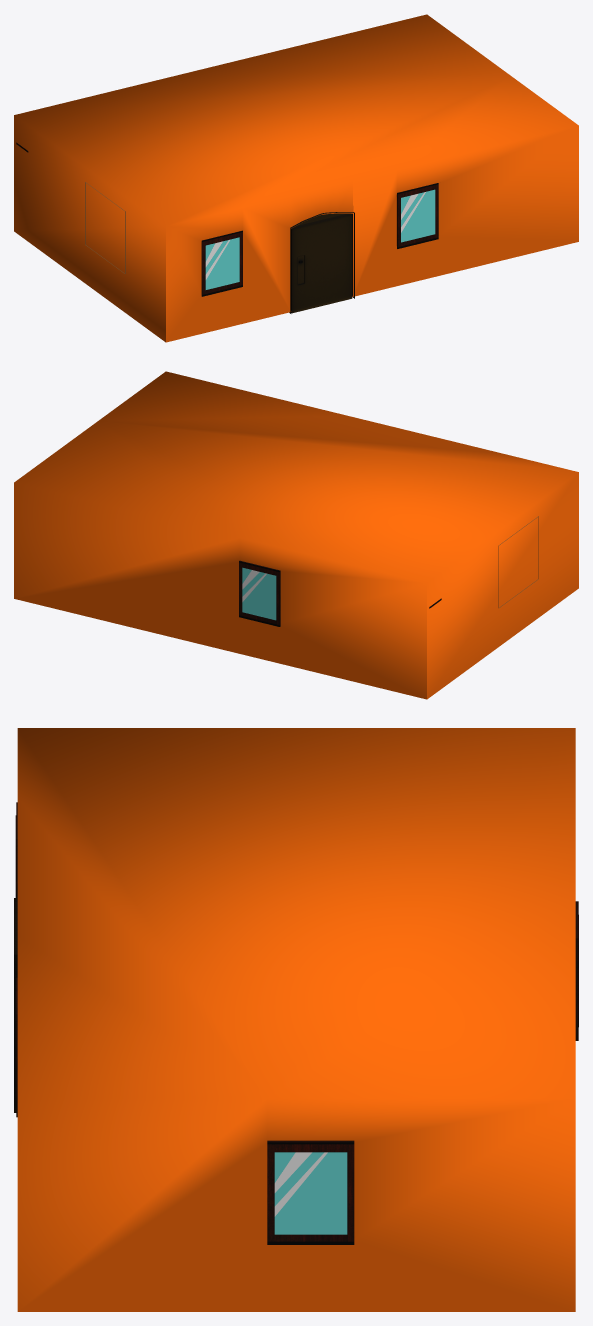
The model's file is saloon.fbx.
The picture shows the model from 3 angles, top to bottom: view 1: azimuth 30°, elevation 25°; view 2: azimuth 150°, elevation 25°; view 3: azimuth 270°, elevation 25°; orthographic projection. The views are drawn at different scales.
Parts seen in each view (by area): view 1: Cube, Cube.007, Cube.005, Cube.004; view 2: Cube, Cube.006; view 3: Cube, Cube.003.
Boxes of the visible parts, x1,y1,x2,y2 form: Cube: [14, 14, 578, 342]; Cube.007: [289, 212, 354, 313]; Cube.005: [201, 230, 242, 296]; Cube.004: [397, 183, 438, 248]; Cube: [14, 371, 578, 699]; Cube.006: [239, 560, 280, 626]; Cube: [17, 728, 575, 1311]; Cube.003: [267, 1140, 354, 1244].
Size of the model in its own units: 4051 by 1096 by 2596.
